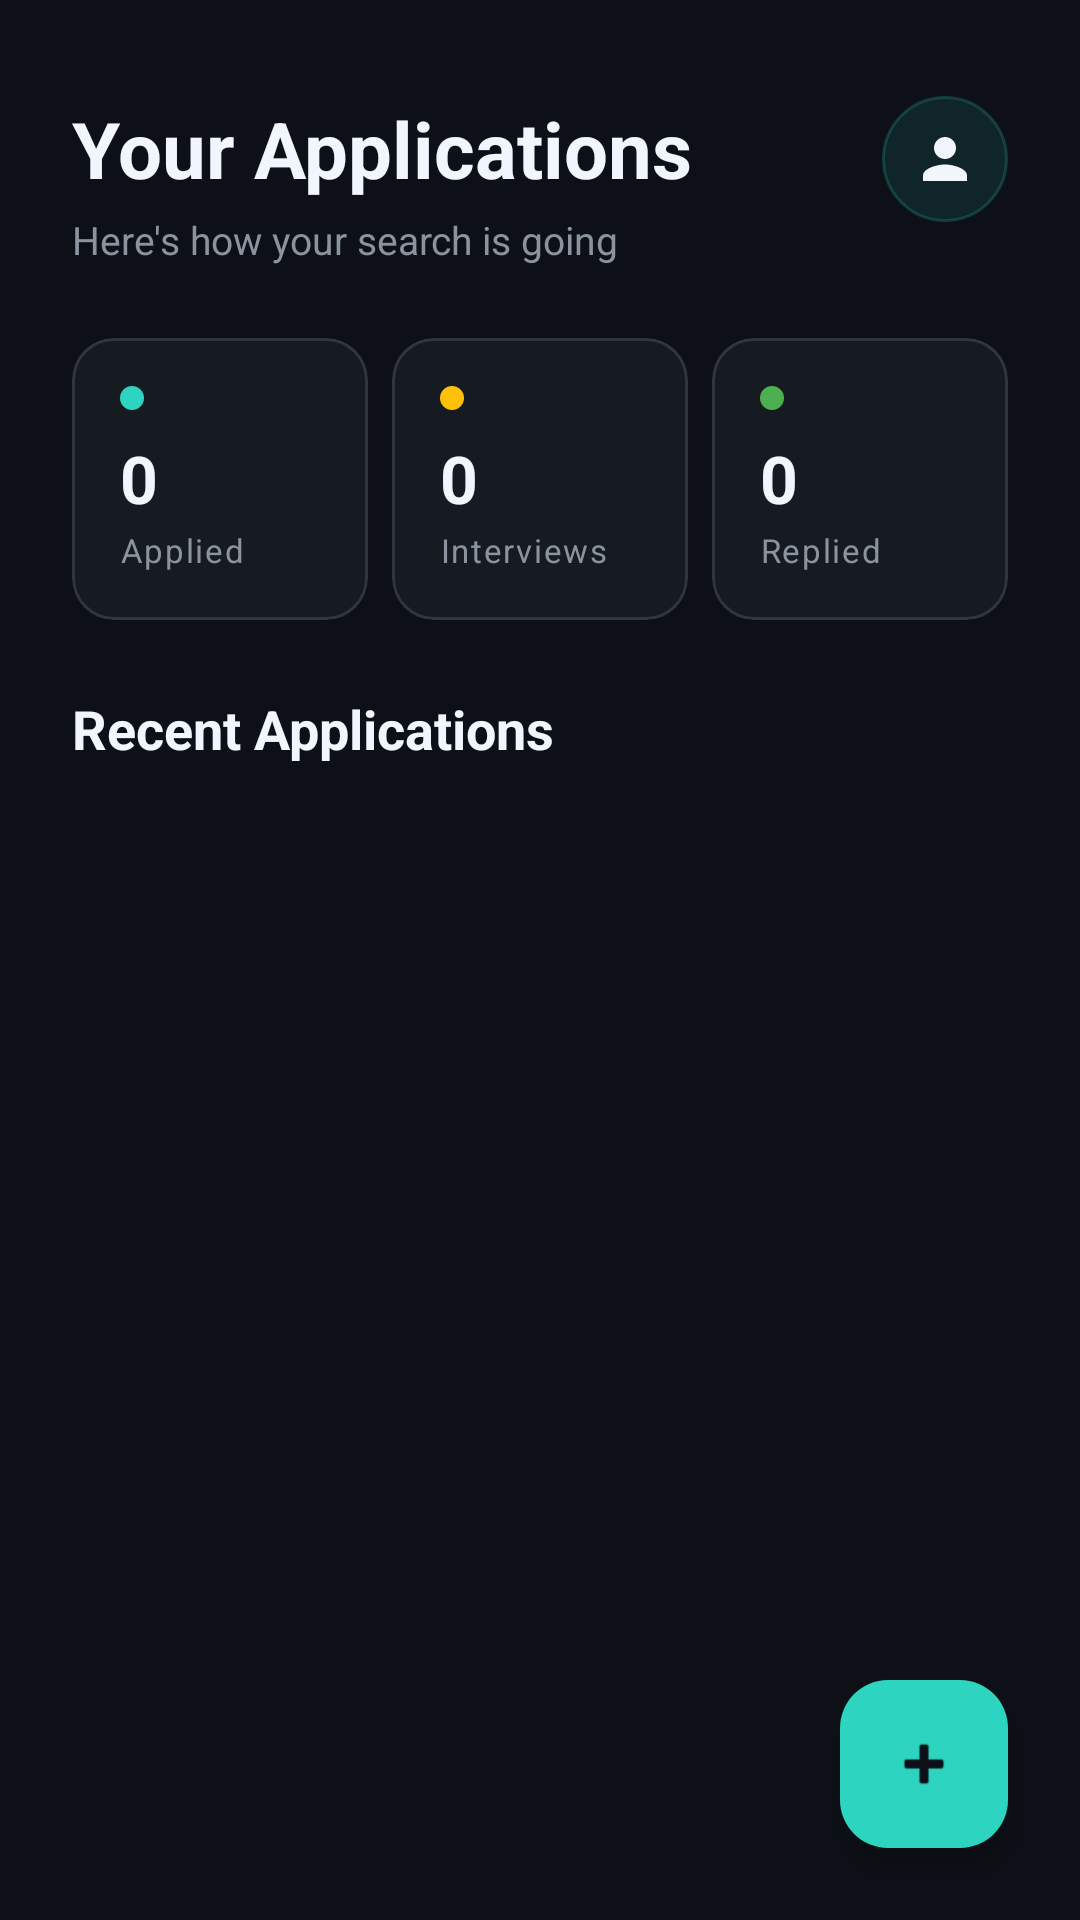

Named icons in this screenshot (1080x1920) and their centers, (x,y):
Add job application: (924,1764)
Profile: (945,159)
